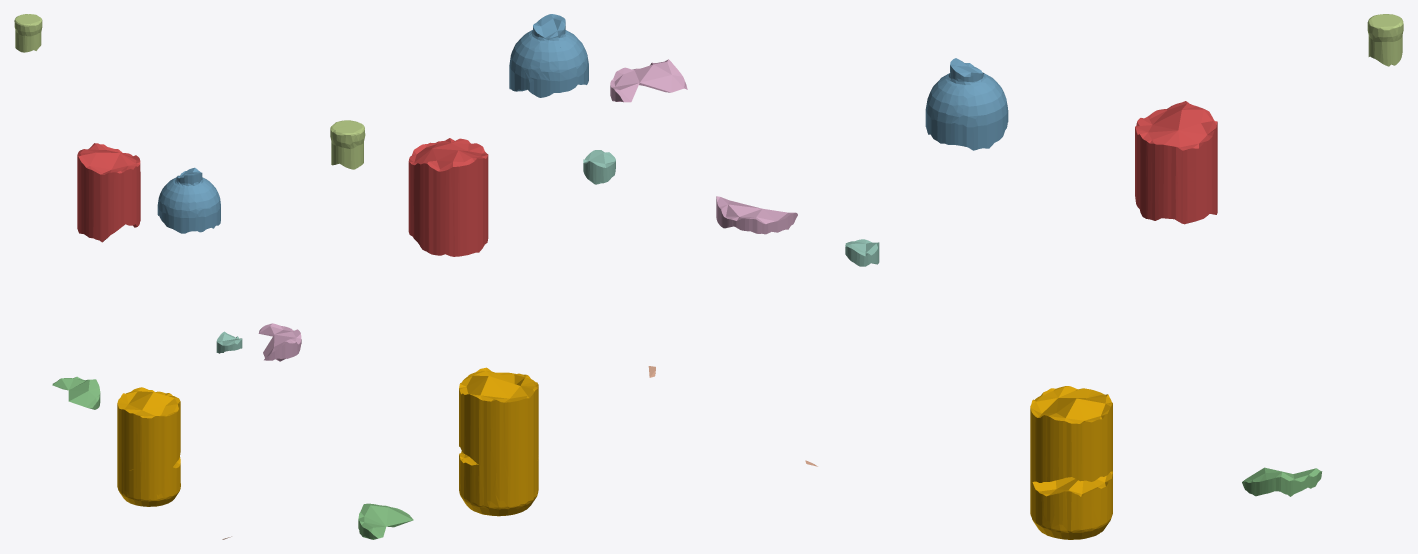
Rendered from fractured_36_8pcs_transformed.glb.
3 views of the same model, side by side, from view 1: azimuth 30°, elevation 25°; view 2: azimuth 150°, elevation 25°; view 3: azimuth 270°, elevation 25° (orthographic). The views are drawn at different scales.
Visible parts, largest first — view 1: piece_0.obj, piece_1.obj, piece_2.obj, piece_6.obj, piece_3.obj, piece_5.obj, piece_4.obj; view 2: piece_0.obj, piece_1.obj, piece_2.obj, piece_6.obj, piece_5.obj, piece_3.obj, piece_4.obj; view 3: piece_0.obj, piece_1.obj, piece_2.obj, piece_6.obj, piece_5.obj, piece_3.obj, piece_4.obj.
Boxes of the visible parts, x1=… form: piece_0.obj: x1=117, y1=387, x2=180, y2=506; piece_1.obj: x1=77, y1=143, x2=140, y2=242; piece_2.obj: x1=157, y1=167, x2=220, y2=233; piece_6.obj: x1=258, y1=323, x2=301, y2=361; piece_3.obj: x1=52, y1=376, x2=100, y2=409; piece_5.obj: x1=14, y1=14, x2=42, y2=52; piece_4.obj: x1=216, y1=331, x2=242, y2=353; piece_0.obj: x1=459, y1=367, x2=538, y2=516; piece_1.obj: x1=408, y1=138, x2=488, y2=256; piece_2.obj: x1=509, y1=14, x2=588, y2=97; piece_6.obj: x1=610, y1=59, x2=687, y2=102; piece_5.obj: x1=330, y1=120, x2=365, y2=169; piece_3.obj: x1=358, y1=503, x2=413, y2=539; piece_4.obj: x1=583, y1=150, x2=615, y2=184; piece_0.obj: x1=1030, y1=386, x2=1112, y2=539; piece_1.obj: x1=1135, y1=101, x2=1217, y2=224; piece_2.obj: x1=925, y1=58, x2=1008, y2=150; piece_6.obj: x1=716, y1=196, x2=797, y2=234; piece_5.obj: x1=1367, y1=14, x2=1403, y2=66; piece_3.obj: x1=1242, y1=467, x2=1322, y2=496; piece_4.obj: x1=845, y1=239, x2=879, y2=266.
Size of the model in its own units: 0.237 by 1.6 by 1.97.
